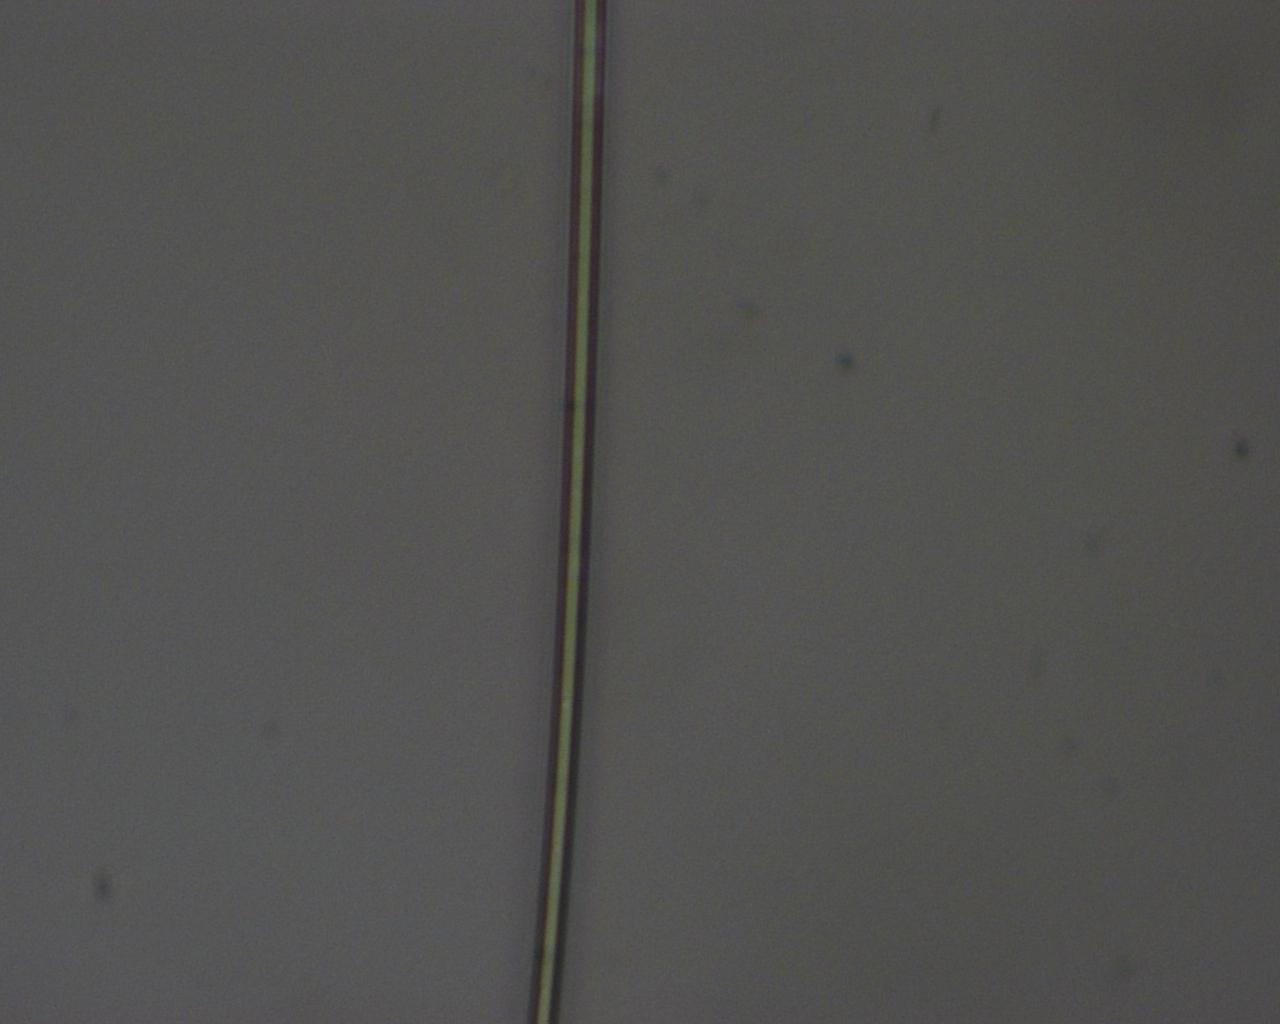fiber: (527, 0, 604, 1024)
